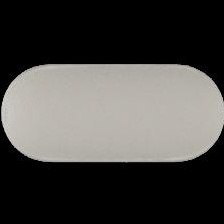42549-560: (0, 0, 224, 224)
